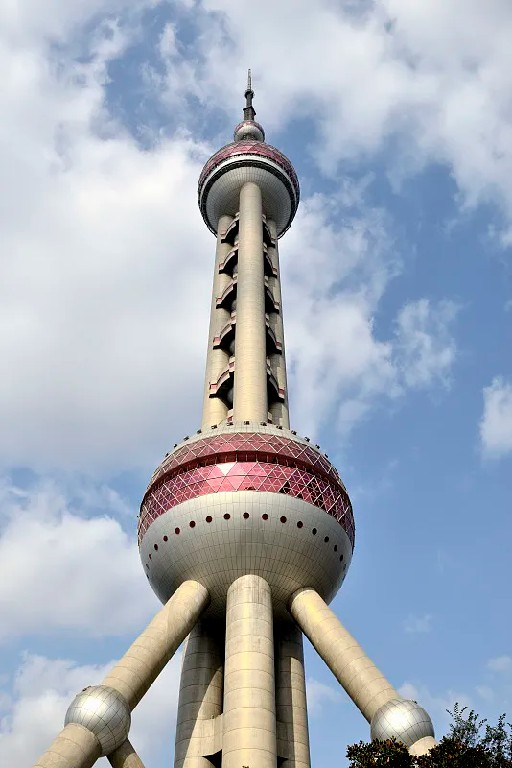Oriental: (32, 71, 439, 768)
